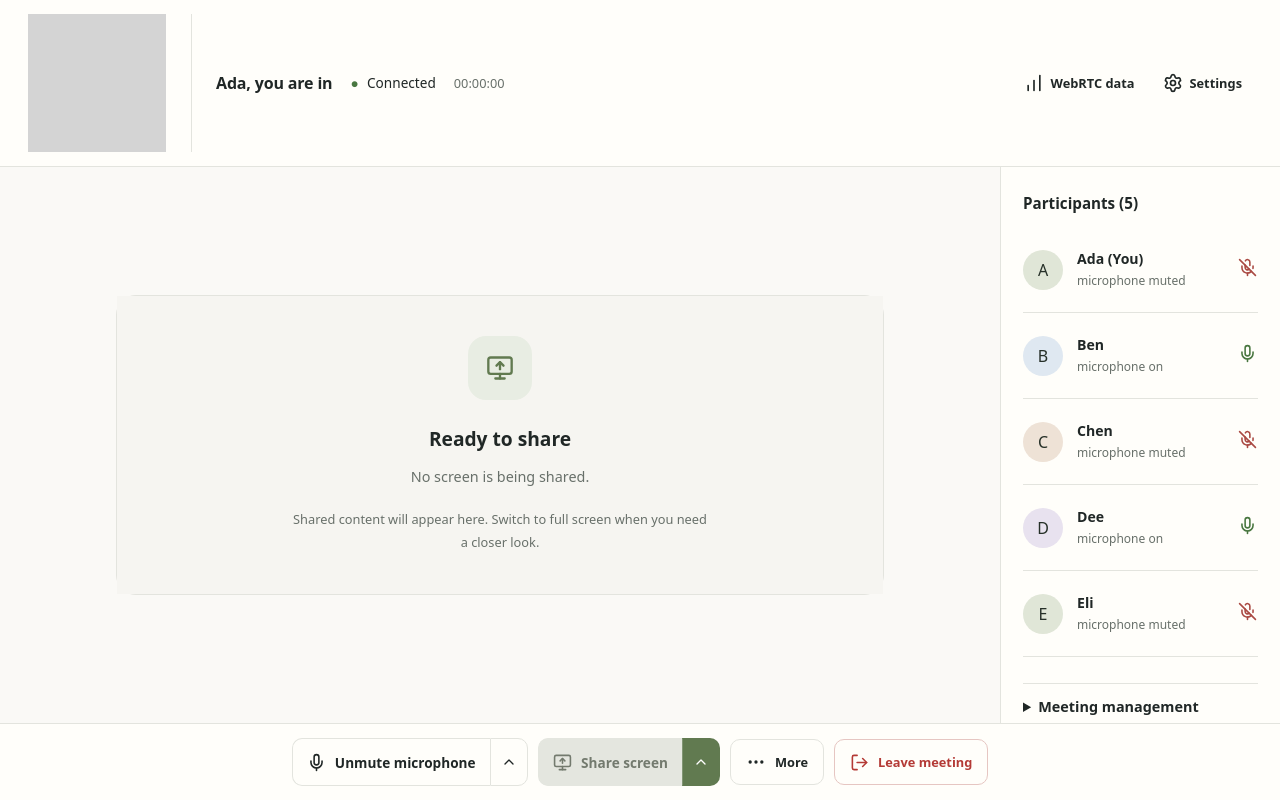
it: meeting room UI › keeps primary actions in a toolbar and opens low-frequency controls from More
Expected: the button "Unmute microphone" is shown, [292,738,490,786]
Expected: the button "Share screen" is shown, [538,738,682,786]
Click the button "More" at [777, 762], box [730,739,824,785]
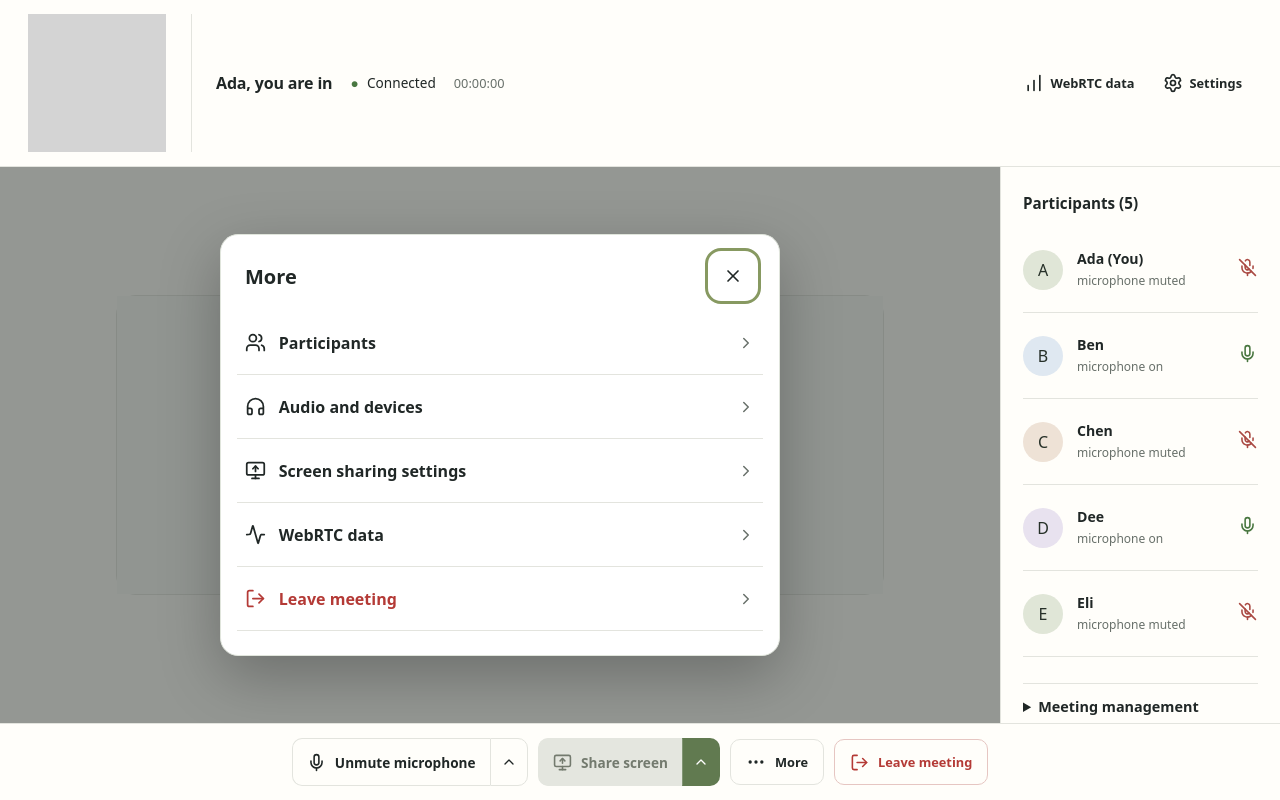
Expected: the dialog "More" is shown, [220,234,780,656]
Expected: the button "Screen sharing settings" is shown
Click the button "Screen sharing settings" at [373, 470], box [237,439,763,503]
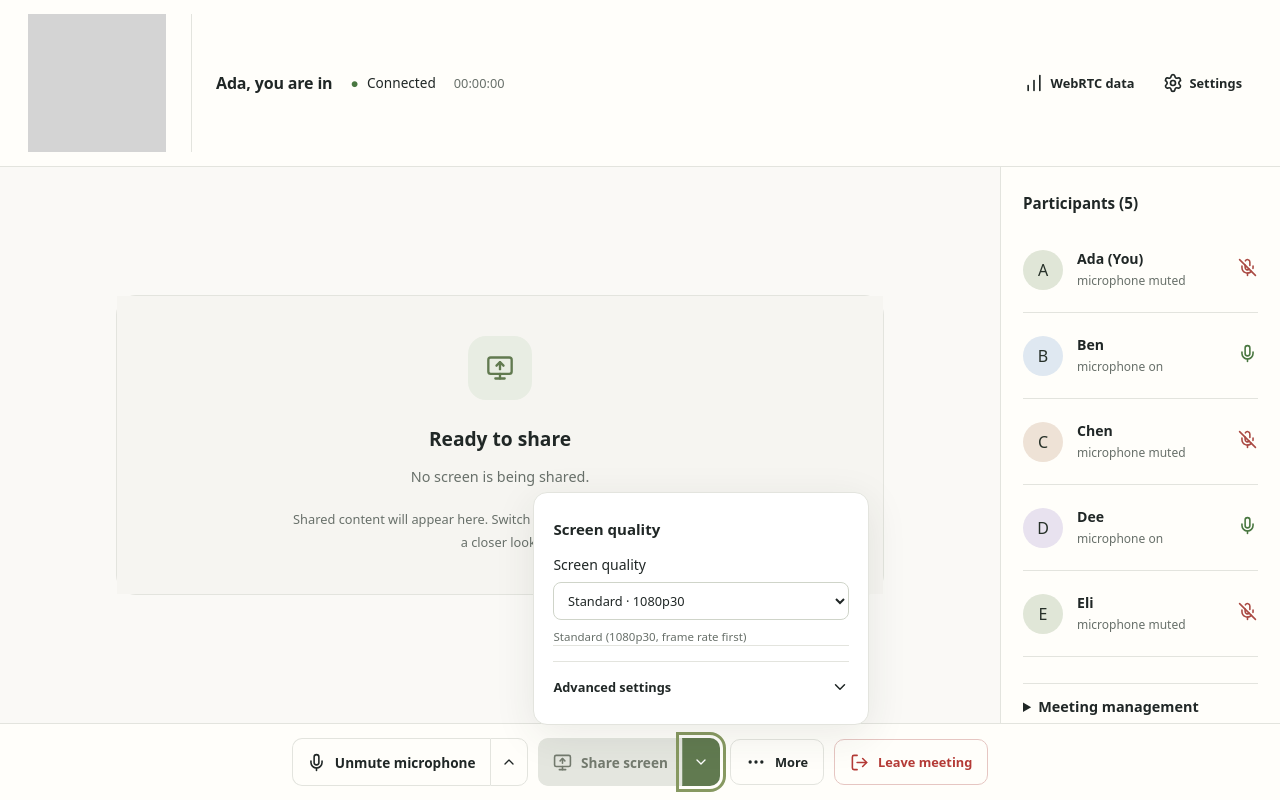
Expected: the element named "Screen sharing settings" is shown, [533,492,869,725]
Click the button "More" at [777, 762], box [730,739,824,785]
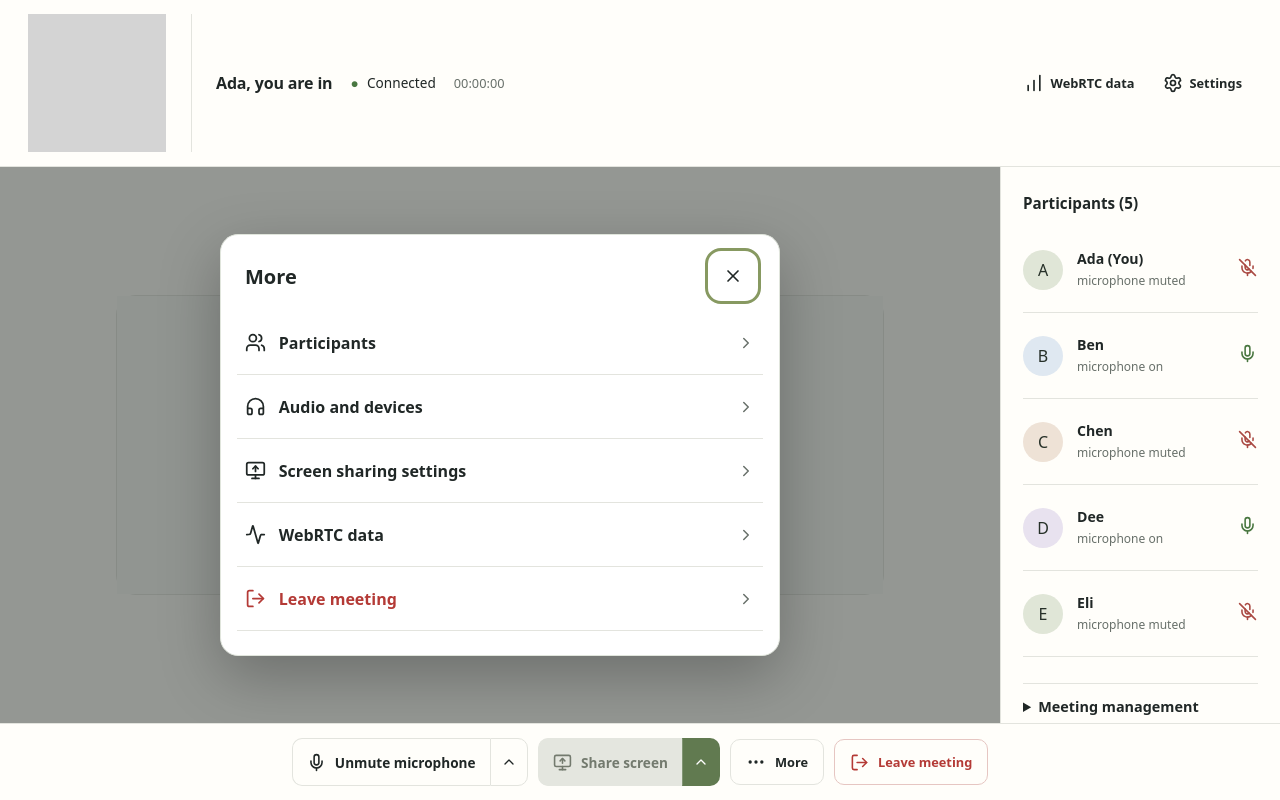
Expected: the dialog "More" is shown, [220,234,780,656]
Click the button "WebRTC data" below "No screen is being shared." at [331, 534], box [237,503,763,567]
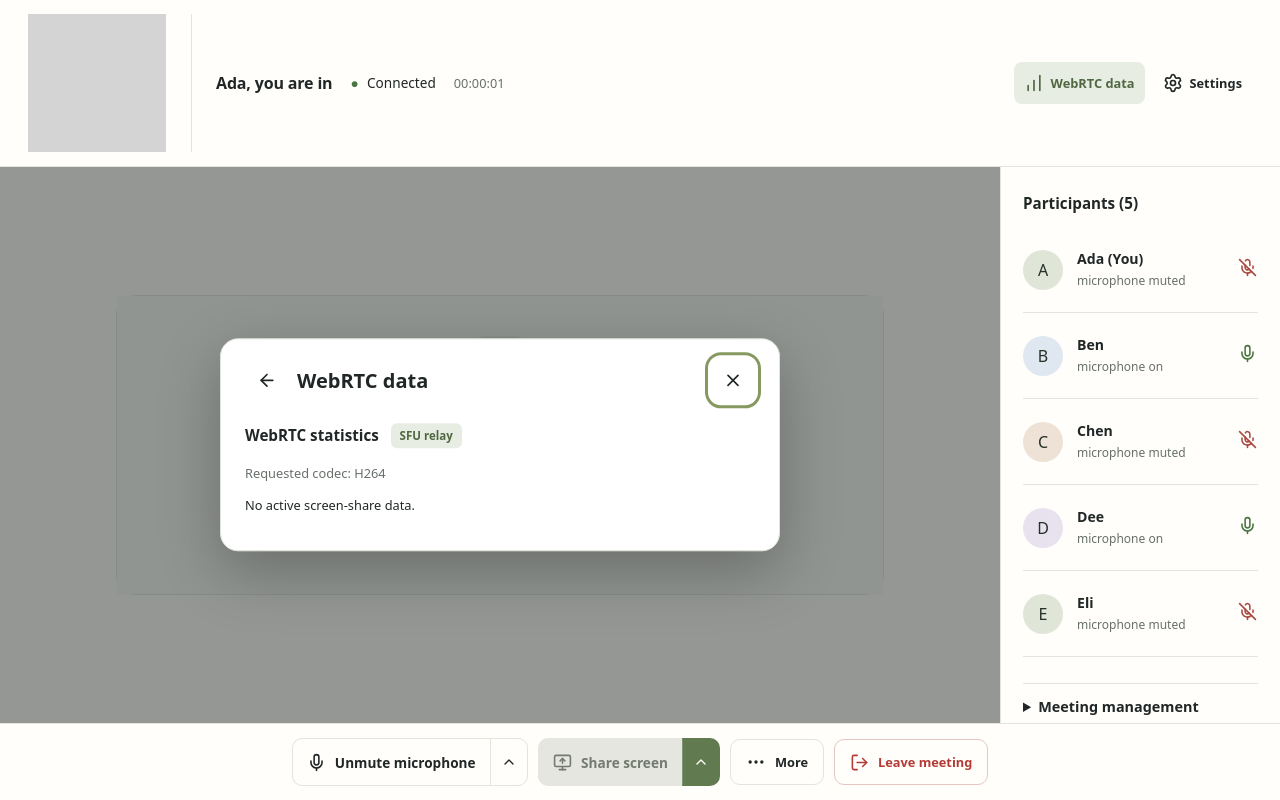
Expected: the dialog "WebRTC data" is shown, [220,338,780,552]
Expected: the text "No active screen-share data." is shown, [245,496,415,514]
